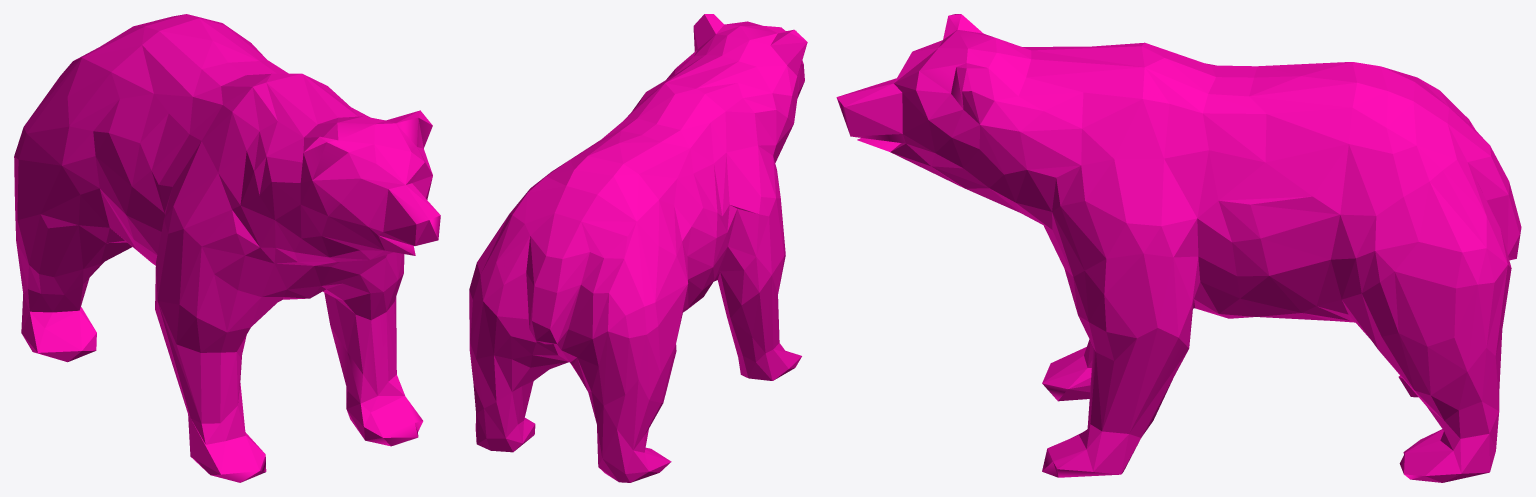
Rendered from pinkbear-test.glb.
3 renders of one model, left to right at view 1: azimuth 30°, elevation 25°; view 2: azimuth 150°, elevation 25°; view 3: azimuth 270°, elevation 25°, orthographic. The views are drawn at different scales.
Parts seen in each view (by area): view 1: Layer 01.1; view 2: Layer 01.1; view 3: Layer 01.1.
Part boxes in pixels (box(x1,y1,x2,y2)): Layer 01.1: box(14, 14, 440, 482); Layer 01.1: box(469, 14, 807, 482); Layer 01.1: box(836, 14, 1521, 482).
Bounding box in the file's own units: 0.4196 × 0.6332 × 1.
